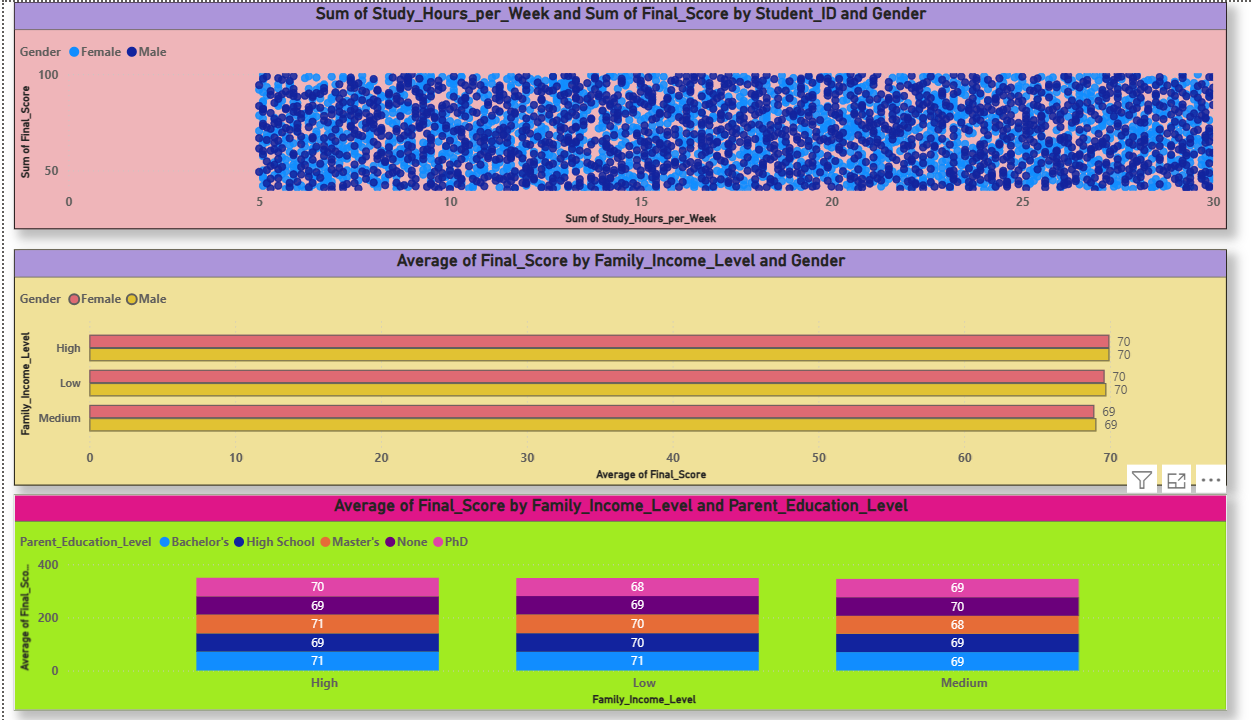

The dashboard page shown, as its layout file describes it:
{"tool":"powerbi","page":{"name":"DashBoard 2","canvas":[1280,720],"ordinal":1},"visuals":[{"type":"scatterChart","fields":{"X":["Sum(Students Performance Dataset.Study_Hours_per_Week)"],"Y":["Sum(Students Performance Dataset.Final_Score)"],"Category":["Students Performance Dataset.Student_ID"],"Series":["Students Performance Dataset.Gender"]},"box":[10,0,1212.5,227.5],"z":0},{"type":"clusteredBarChart","fields":{"Y":["Avg(Students Performance Dataset.Final_Score)"],"Category":["Students Performance Dataset.Family_Income_Level"],"Series":["Students Performance Dataset.Gender"]},"box":[10,247.5,1212.5,236.2],"z":1000},{"type":"columnChart","fields":{"Category":["Students Performance Dataset.Family_Income_Level"],"Y":["Avg(Students Performance Dataset.Final_Score)"],"Series":["Students Performance Dataset.Parent_Education_Level"]},"box":[10,492.5,1212.5,216.2],"z":2000}]}

Visuals, with their boxes in screenshot pixels (x1, y1, x2, y2), scaled from the page's 1280x720 canvas onto the 1252x720 screenshot:
scatterChart - Sum(Students Performance Dataset.Study_Hours_per_Week) x Sum(Students Performance Dataset.Final_Score): left=10, top=0, right=1196, bottom=228
clusteredBarChart - Avg(Students Performance Dataset.Final_Score) x Students Performance Dataset.Family_Income_Level: left=10, top=248, right=1196, bottom=484
columnChart - Students Performance Dataset.Family_Income_Level x Avg(Students Performance Dataset.Final_Score): left=10, top=492, right=1196, bottom=709
